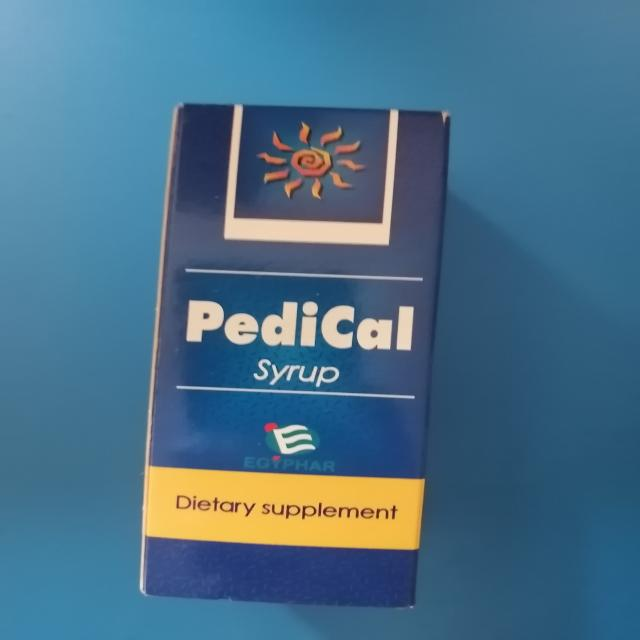Medicine: (133, 101, 463, 610)
